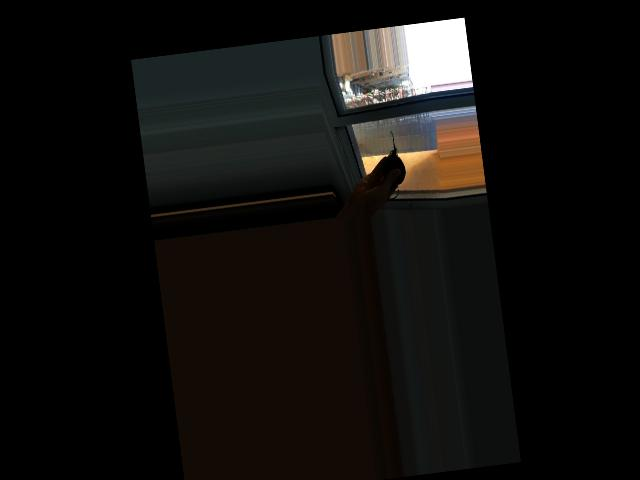beet: (371, 129, 408, 200)
